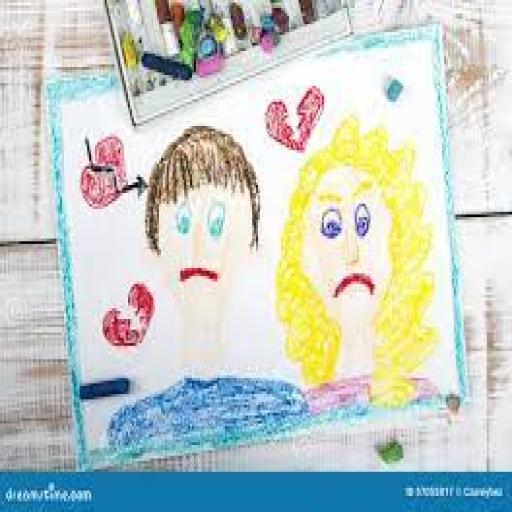person: (275, 117, 447, 403), (135, 120, 269, 425)
